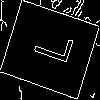L: (24, 24, 74, 66)
